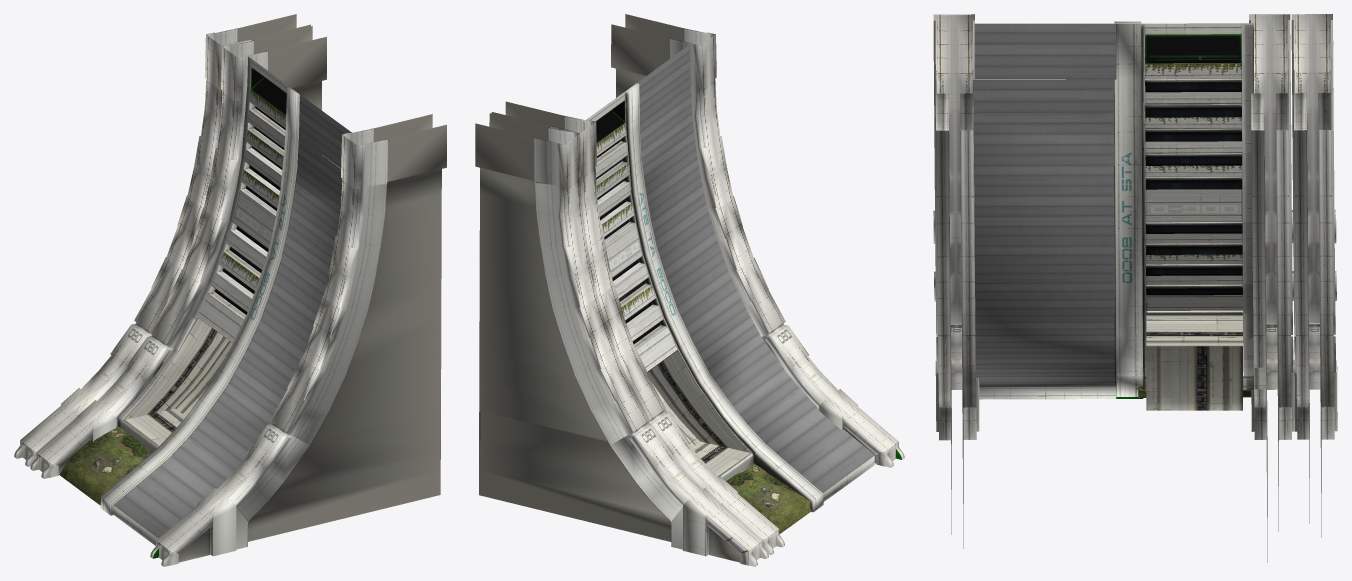
File: STA20_LARGECURVE.FBX
3 views of the same model, side by side, from view 1: azimuth 30°, elevation 25°; view 2: azimuth 150°, elevation 25°; view 3: azimuth 270°, elevation 25° (orthographic). The views are drawn at different scales.
Visible parts, largest first — view 1: STA20_LARGECURVE; view 2: STA20_LARGECURVE; view 3: STA20_LARGECURVE.
Part boxes in pixels (x1,y1,x2,y2): STA20_LARGECURVE: (14,14,446,566); STA20_LARGECURVE: (475,14,904,566); STA20_LARGECURVE: (933,14,1337,562).
Bounding box in the file's own units: 133 × 171 × 126.
